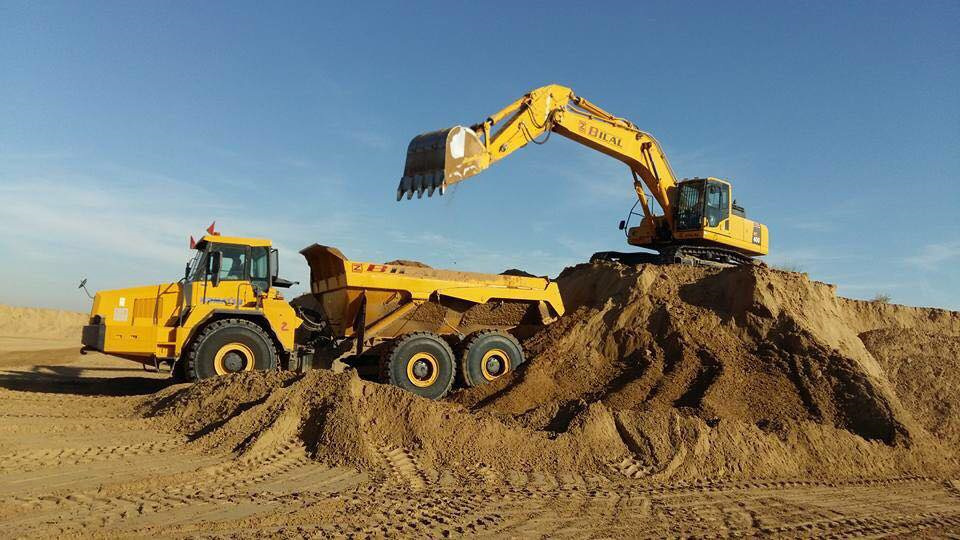excavator: (395, 67, 779, 274)
